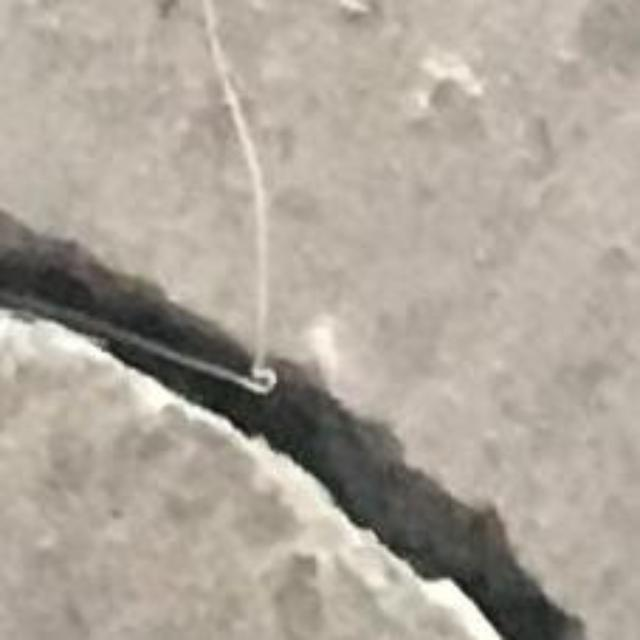crack: (0, 209, 586, 639)
